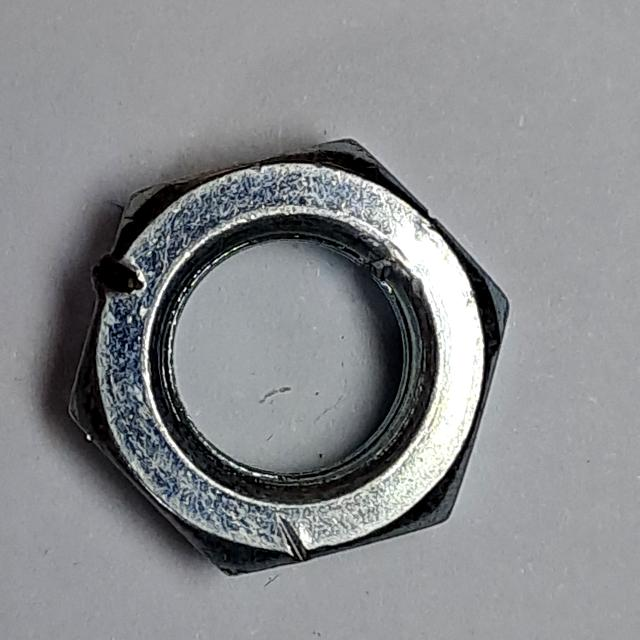Scratches: (53, 130, 519, 587)
